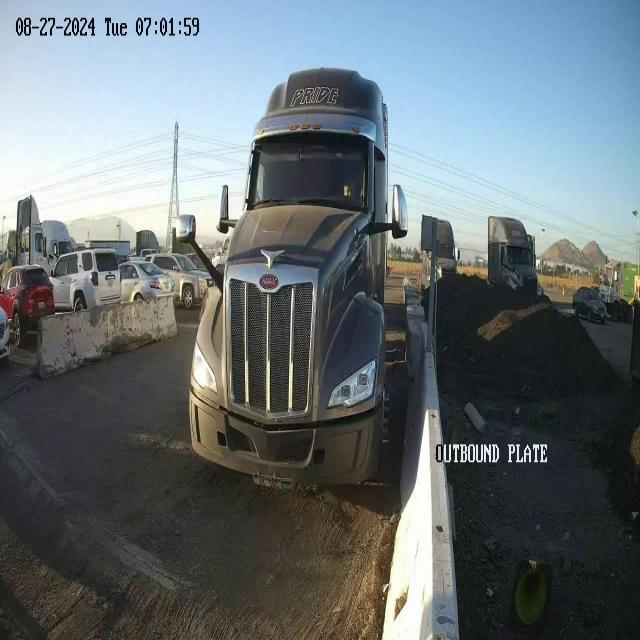TRUCK_OUT: (178, 66, 408, 490)
